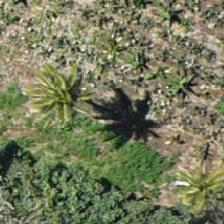Kelapa_Sawit: (17, 42, 107, 132), (140, 137, 223, 223)
